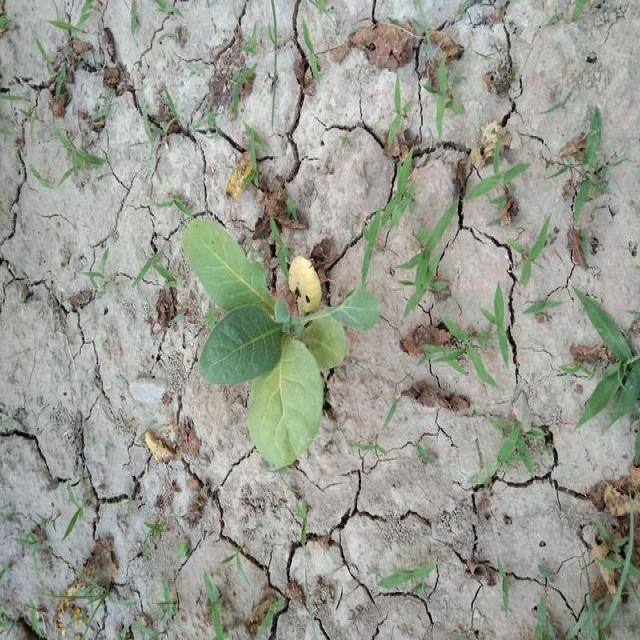crop: (182, 197, 390, 473)
